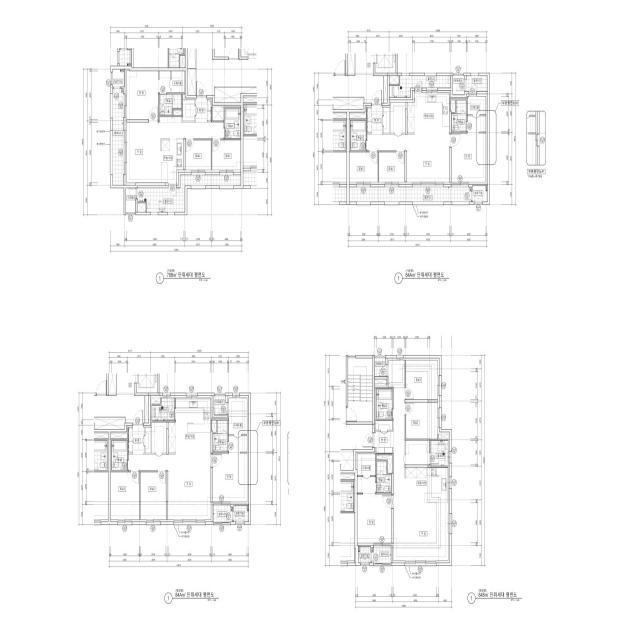space_balconi: (138, 175, 241, 212), (349, 187, 471, 202), (389, 76, 451, 97), (113, 88, 123, 185), (152, 398, 174, 421), (430, 441, 448, 466), (213, 505, 233, 522), (372, 546, 391, 563), (466, 76, 487, 91)
space_bedroom: (452, 133, 486, 182), (357, 494, 391, 543), (213, 453, 247, 502), (127, 71, 158, 119), (111, 472, 139, 520), (406, 360, 438, 400), (140, 472, 166, 520), (406, 403, 438, 439), (212, 140, 241, 170), (349, 152, 378, 182), (185, 140, 211, 170), (379, 152, 405, 182)
space_dressroom: (229, 398, 247, 452), (357, 454, 376, 493), (468, 96, 486, 132), (159, 71, 184, 93)
space_front: (367, 105, 383, 134), (128, 425, 144, 453), (374, 432, 393, 454), (196, 97, 211, 122)
space_kitchen: (168, 398, 211, 453), (407, 93, 450, 133), (405, 468, 448, 503), (160, 139, 183, 183)
space_living_room: (389, 360, 448, 561), (127, 117, 224, 183), (128, 453, 211, 520), (367, 134, 450, 182)
space_other: (406, 441, 429, 465), (391, 102, 405, 133), (152, 422, 166, 453), (377, 455, 392, 473), (183, 100, 195, 121), (214, 396, 227, 415), (126, 188, 136, 212), (375, 358, 387, 376), (453, 76, 464, 95), (212, 107, 224, 121), (376, 420, 392, 430), (384, 108, 390, 133), (145, 428, 151, 453), (145, 396, 149, 423), (111, 433, 127, 439), (349, 114, 366, 119), (384, 76, 387, 103), (389, 76, 399, 84), (138, 203, 146, 212), (375, 379, 387, 385), (212, 420, 217, 432), (451, 100, 455, 112), (152, 398, 160, 404), (173, 110, 182, 115), (439, 434, 448, 439)
space_outdoor_room: (472, 186, 487, 202), (234, 506, 249, 522), (358, 547, 371, 563), (113, 69, 124, 87)
space_staircase: (348, 358, 372, 422)
space_toilet: (350, 120, 366, 151), (225, 108, 241, 139), (159, 94, 182, 115), (376, 389, 392, 419), (213, 420, 228, 452), (112, 440, 127, 471), (452, 100, 466, 132), (377, 461, 391, 493)
